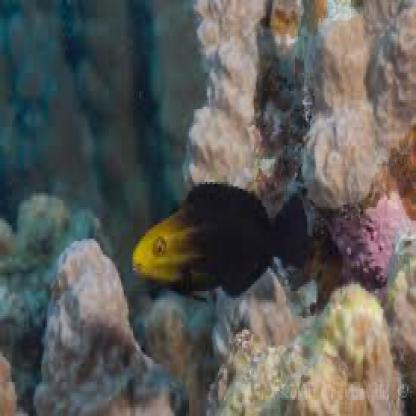Scaridae -Parrotfishes-: (130, 167, 317, 312)
